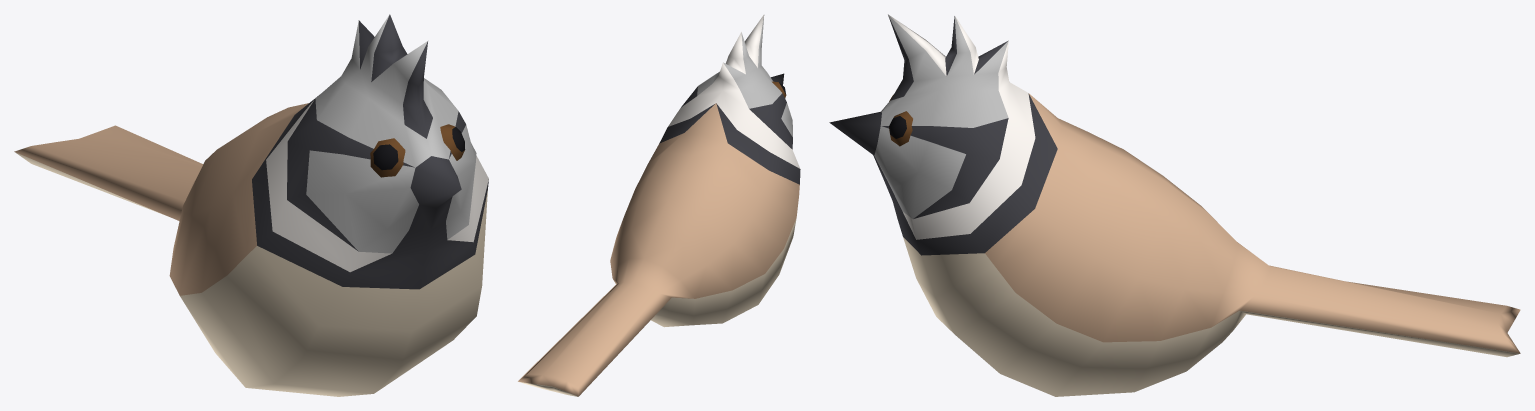
The model's file is Crested_Tit.glb.
3 views of the same model, side by side, from view 1: azimuth 30°, elevation 25°; view 2: azimuth 150°, elevation 25°; view 3: azimuth 270°, elevation 25° (orthographic). The views are drawn at different scales.
Parts seen in each view (by area): view 1: Crested_Tit; view 2: Crested_Tit; view 3: Crested_Tit.
Part boxes in pixels (left/top/right/bottom): Crested_Tit: left=14, top=14, right=488, bottom=396; Crested_Tit: left=518, top=14, right=800, bottom=396; Crested_Tit: left=829, top=14, right=1520, bottom=396.
Bounding box in the file's own units: 0.1569 × 0.2438 × 0.4148.
Materials: 1 (1 with a texture image).
